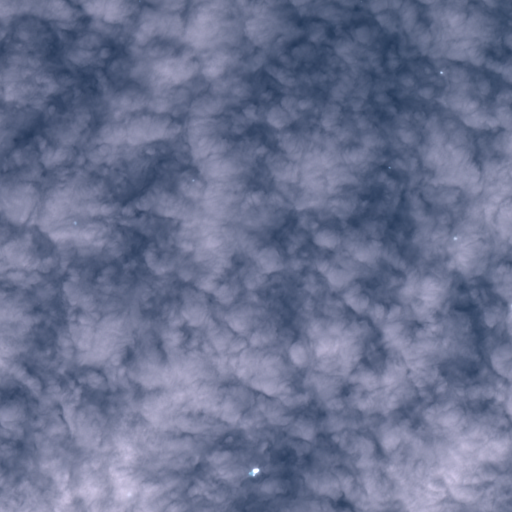Iceberg: (249, 468, 259, 476), (453, 236, 457, 239), (74, 221, 76, 224), (440, 71, 442, 73), (388, 166, 390, 168), (192, 179, 194, 181)
